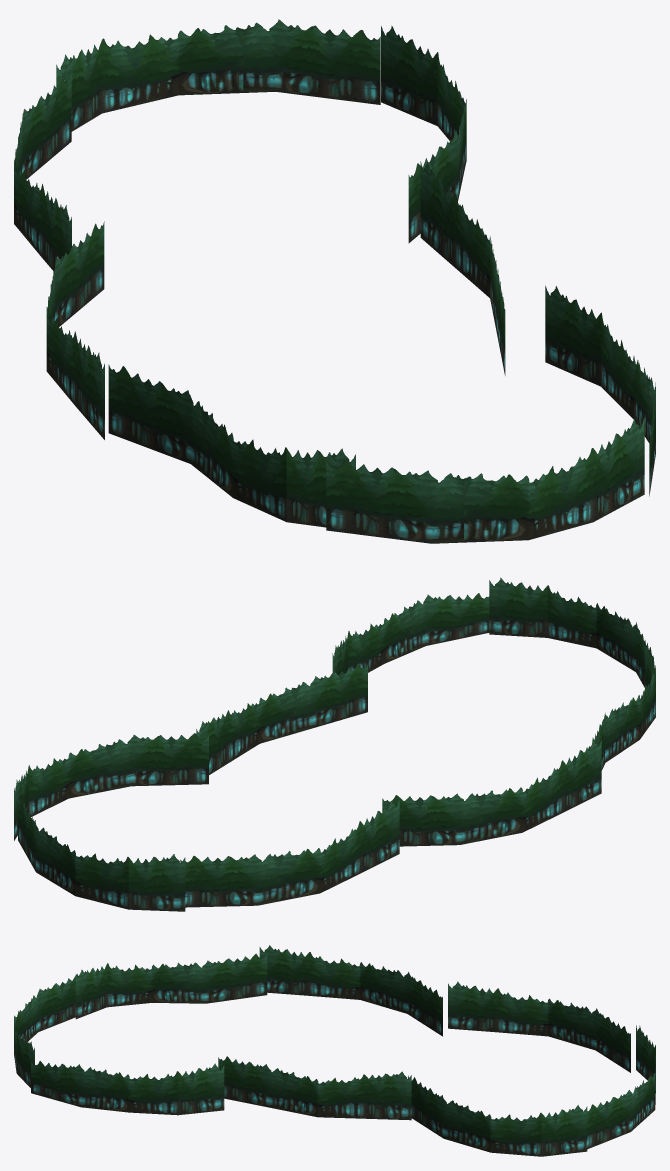
Rendered from rc_04_grd_yj_04.FBX.
The picture shows the model from 3 angles, top to bottom: view 1: azimuth 30°, elevation 25°; view 2: azimuth 150°, elevation 25°; view 3: azimuth 270°, elevation 25°; orthographic projection. The views are drawn at different scales.
Parts seen in each view (by area): view 1: 对象021; view 2: 对象021; view 3: 对象021.
Part boxes in pixels (x1=…): 对象021: x1=14, y1=19, x2=655, y2=543; 对象021: x1=14, y1=577, x2=655, y2=911; 对象021: x1=14, y1=945, x2=655, y2=1156.
Size of the model in its own units: 15226 by 25096 by 2242.
